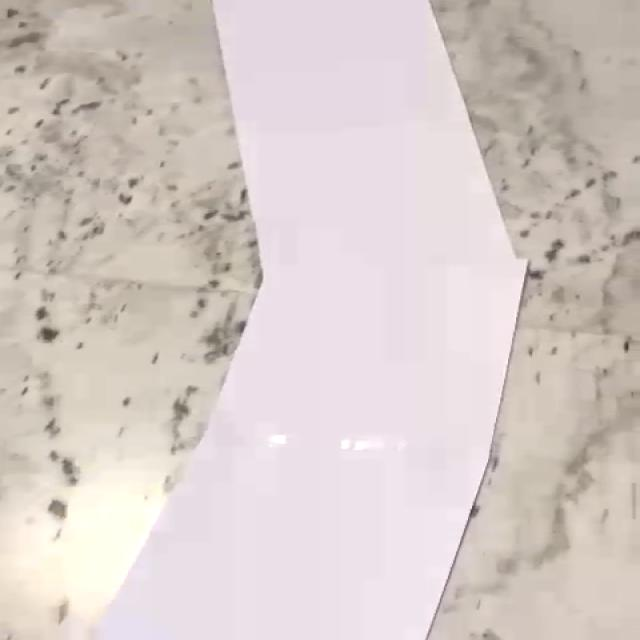road: (91, 0, 529, 640)
